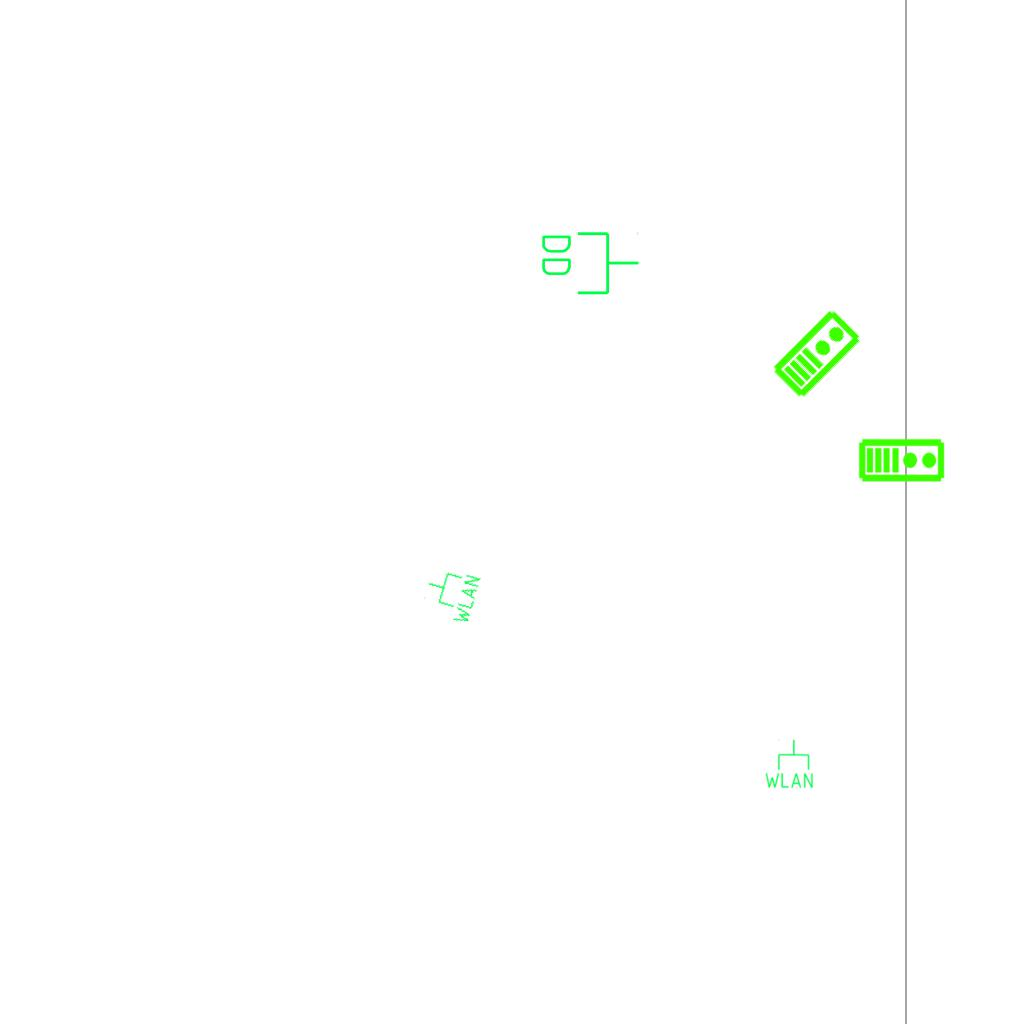Datenanschluss_zweifach: (538, 228, 641, 297)
Gegensprechanlage_mit_Video: (768, 305, 865, 401), (858, 436, 946, 483)
WLAN: (418, 562, 484, 628), (763, 738, 815, 790)
